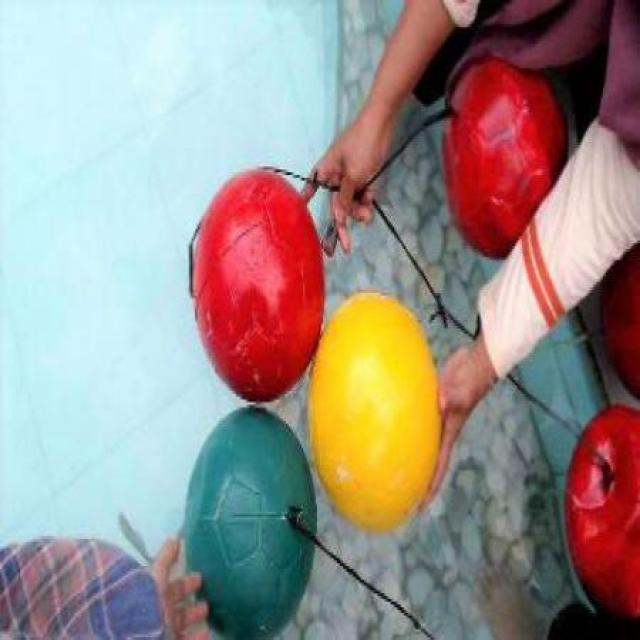buoy: (308, 289, 440, 532), (190, 168, 326, 401), (182, 404, 316, 636), (442, 46, 568, 256), (564, 406, 638, 617)
